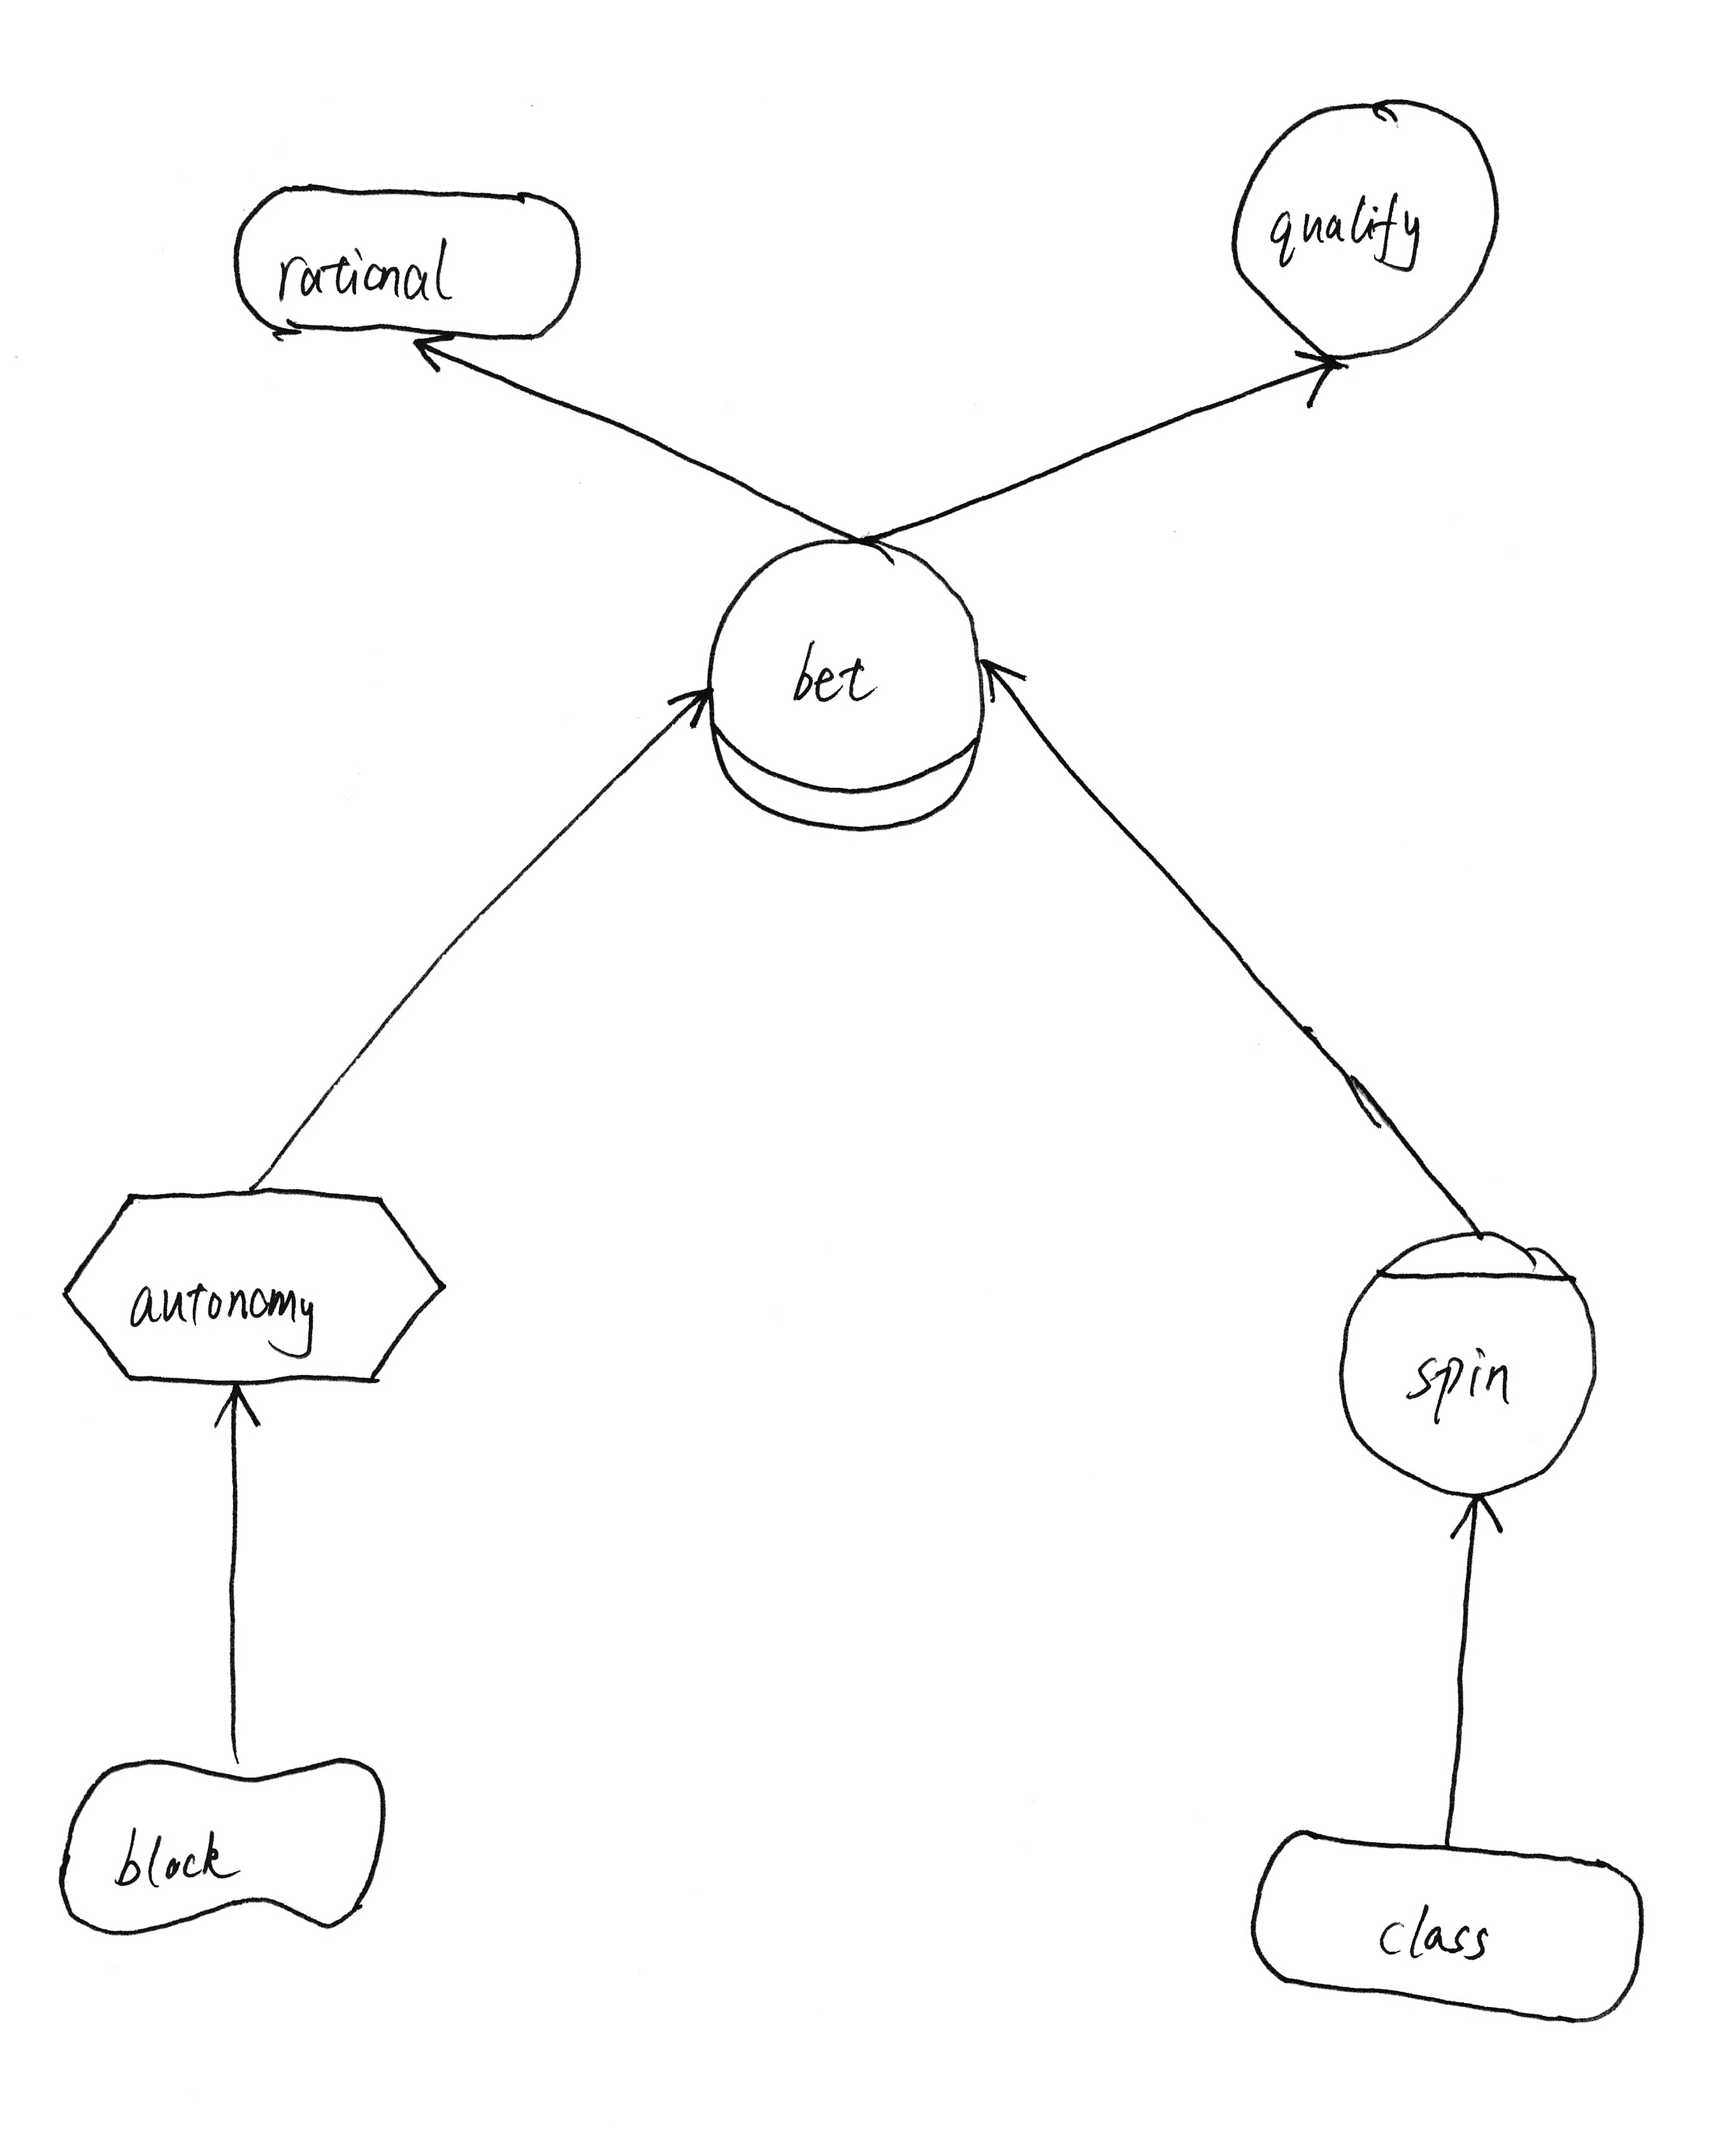actor: (1215, 76, 1522, 382)
agent: (1314, 1215, 1612, 1512)
arrow: (1430, 1492, 1534, 1569), (1263, 343, 1364, 418), (383, 326, 478, 393), (648, 675, 719, 758), (973, 641, 1036, 724), (193, 1386, 269, 1448)
goal: (1235, 1815, 1658, 2048), (220, 161, 597, 359)
quality: (39, 1747, 409, 1951)
role: (689, 513, 1001, 846)
task: (43, 1170, 459, 1411)
